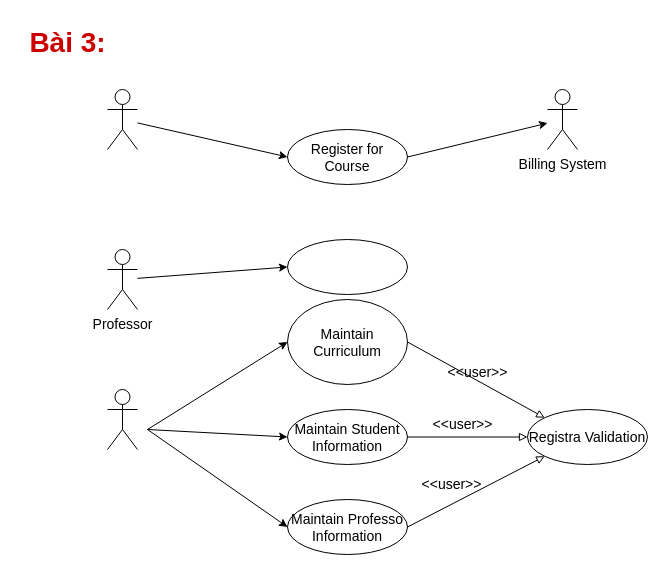
Some shapes in this 665 by 572 pixel diagram are drawn without their labels. Each missing label, with the centre of its shape:
"Registra" goes at pixel 122 419.
"Select Course to Teach" goes at pixel 347 266.
"Student" goes at pixel 122 119.
